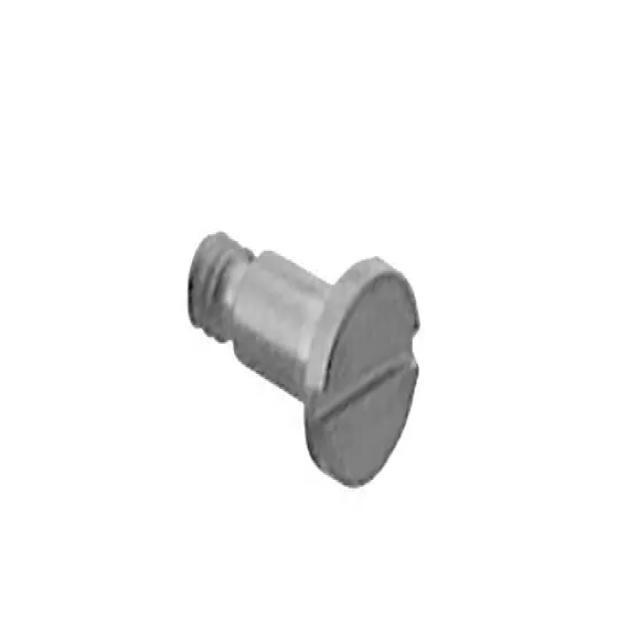duz: (302, 256, 422, 490)
